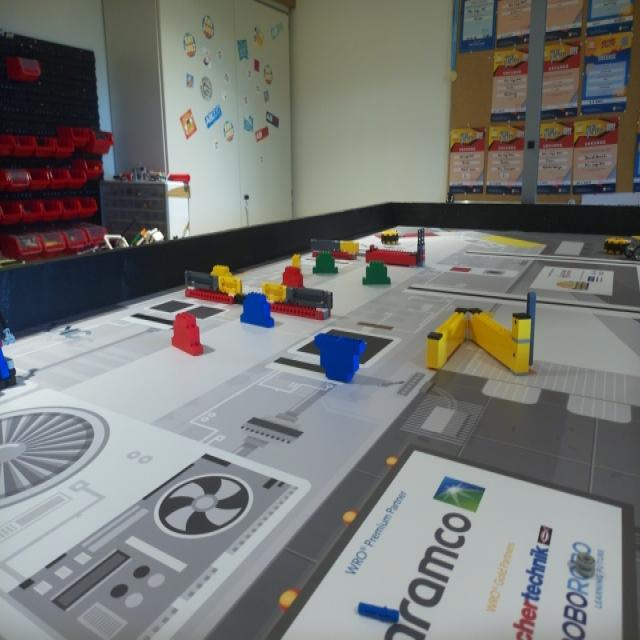blau: (310, 330, 365, 385), (239, 296, 275, 330)
gruen: (362, 262, 392, 289), (310, 251, 338, 275)
rot: (170, 314, 204, 357), (284, 268, 304, 286)
yellow: (213, 266, 231, 276), (292, 254, 301, 265)
